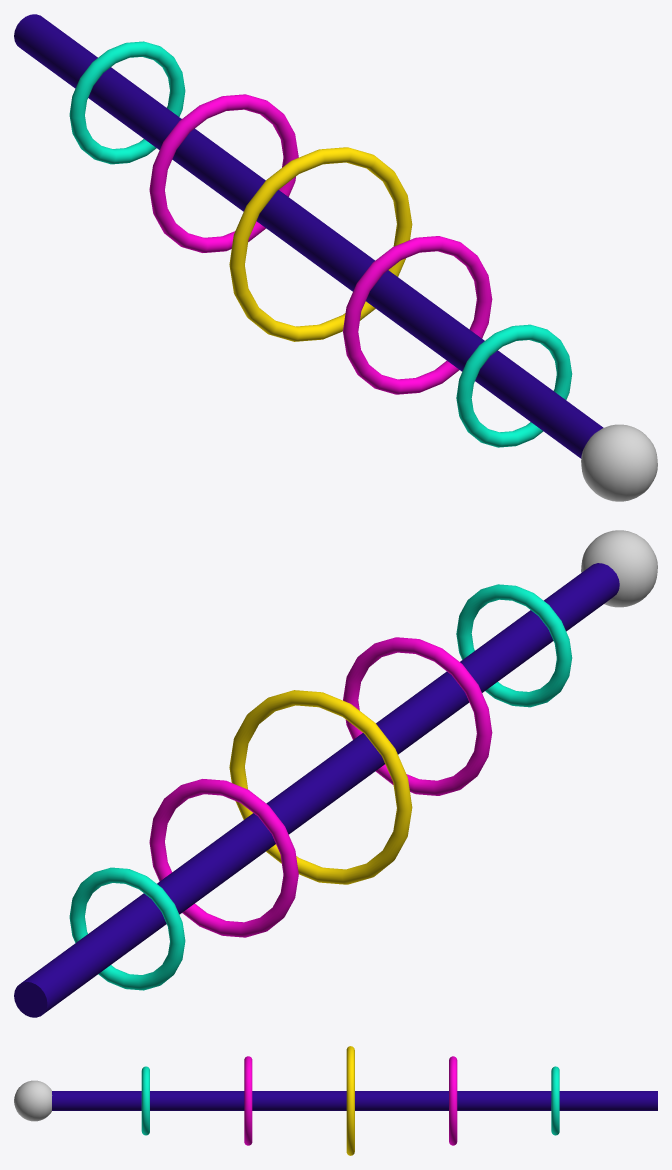
File: Plunger.obj
The picture shows the model from 3 angles, top to bottom: view 1: azimuth 30°, elevation 25°; view 2: azimuth 150°, elevation 25°; view 3: azimuth 270°, elevation 25°; orthographic projection. The views are drawn at different scales.
Parts seen in each view (by area): view 1: pTorus6; view 2: pTorus6; view 3: pTorus6.
Boxes of the visible parts, x1,y1,x2,y2 form: pTorus6: (14, 14, 657, 501); pTorus6: (14, 530, 657, 1017); pTorus6: (14, 1046, 657, 1155).
Bounding box in the file's own units: 0.27 × 0.27 × 1.57.
Materials: 1 (1 with a texture image).
